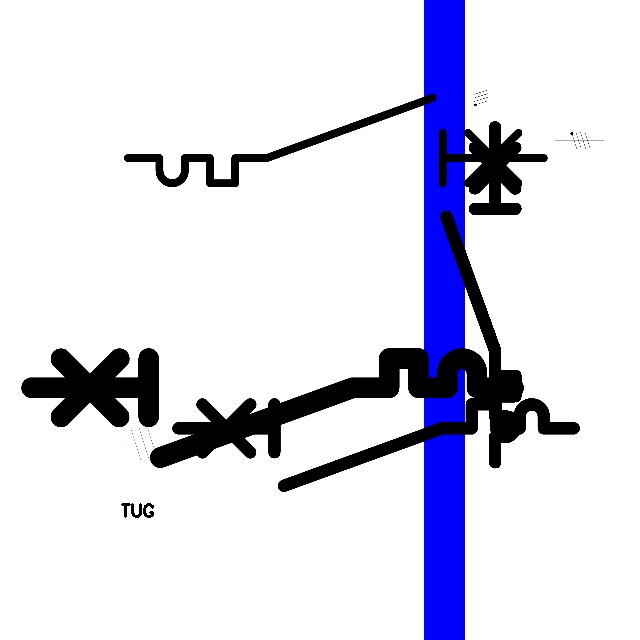interruptor_termomagnetico: (19, 346, 526, 470), (117, 87, 555, 194), (168, 394, 584, 495), (438, 118, 524, 470)
